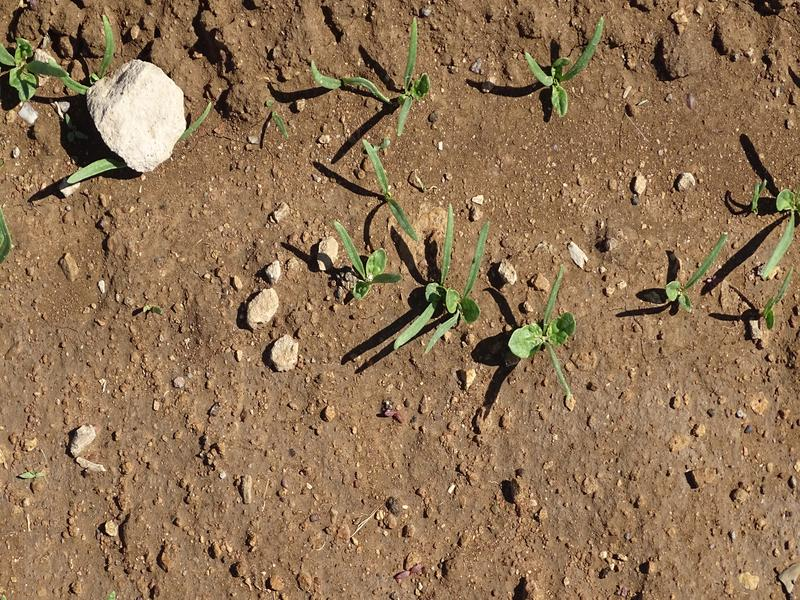Espinaca: (323, 144, 489, 361), (657, 153, 800, 334), (304, 42, 440, 130), (506, 251, 573, 396), (523, 31, 619, 108), (10, 30, 104, 99)
